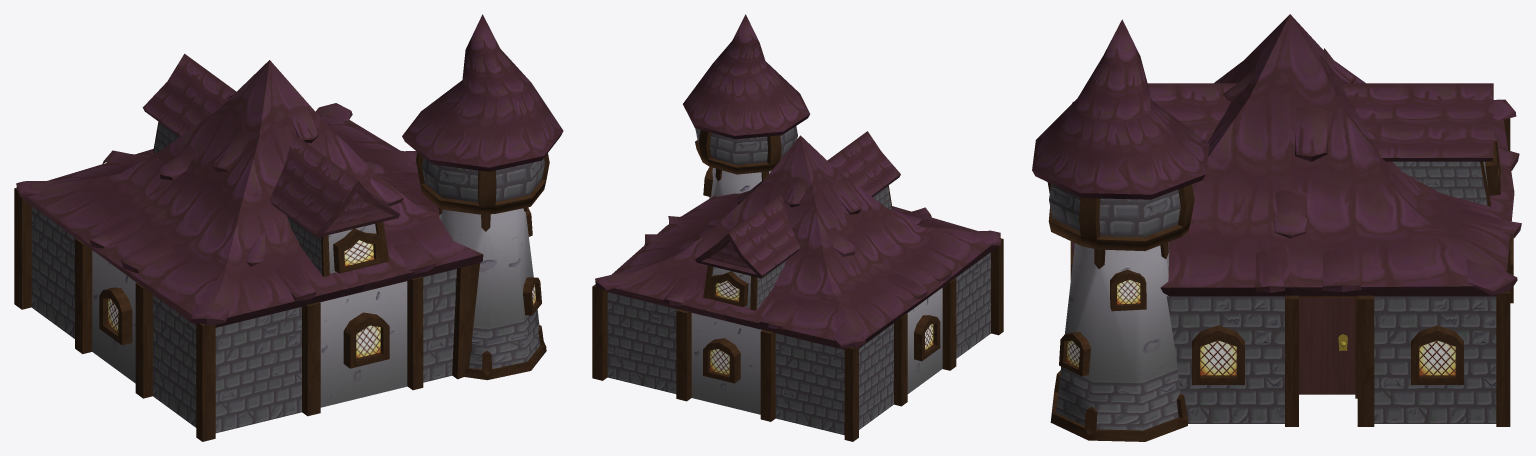
File: Witch House.fbx
3 renders of one model, left to right at view 1: azimuth 30°, elevation 25°; view 2: azimuth 150°, elevation 25°; view 3: azimuth 270°, elevation 25°, orthographic. The views are drawn at different scales.
Parts seen in each view (by area): view 1: Witch_House; view 2: Witch_House; view 3: Witch_House.
Part boxes in pixels (<box>): Witch_House: <box>14,14,563,441</box>; Witch_House: <box>592,14,1003,441</box>; Witch_House: <box>1032,14,1521,441</box>.
Size of the model in its own units: 29.77 by 25.68 by 28.94.
Materials: 46 (44 with a texture image).
